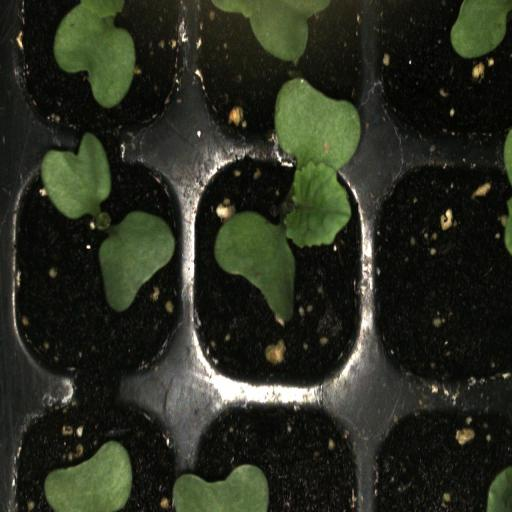Folha: (212, 0, 336, 64), (172, 464, 269, 512), (450, 0, 512, 59)
Germinacao: (186, 138, 369, 397), (7, 139, 184, 387)
